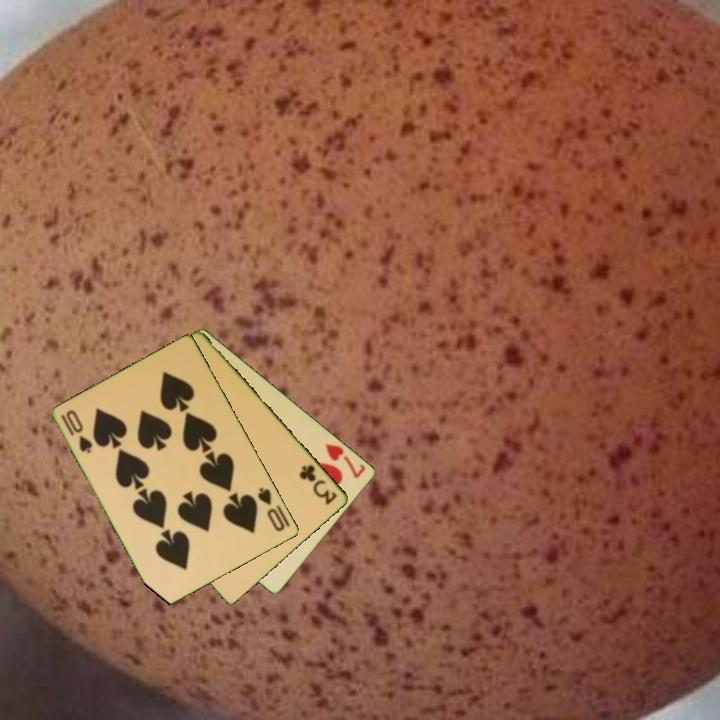10s: (58, 406, 96, 456), (254, 484, 288, 535)
3c: (296, 461, 340, 508)
7h: (322, 440, 369, 481)
